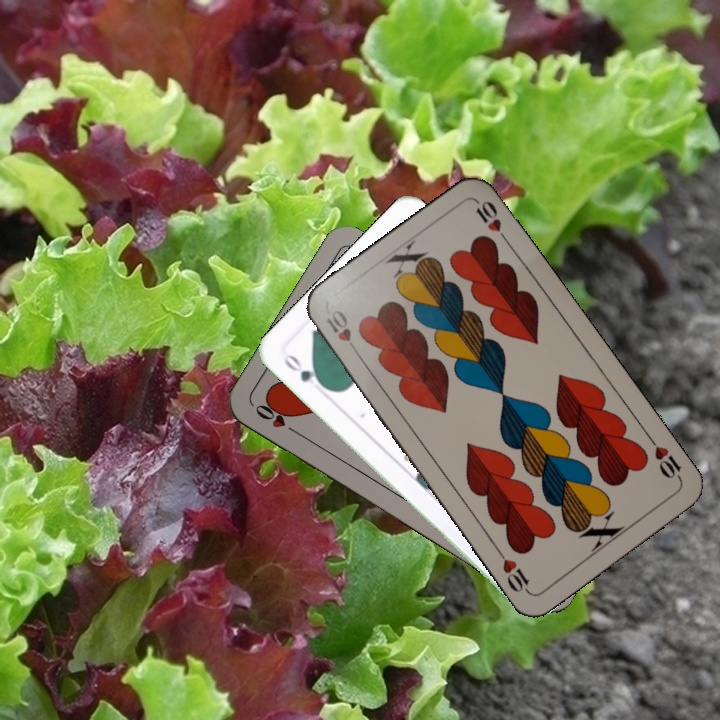GO: (279, 349, 330, 392)
H10: (322, 305, 362, 359), (644, 432, 684, 484)
HO: (251, 399, 303, 438)
